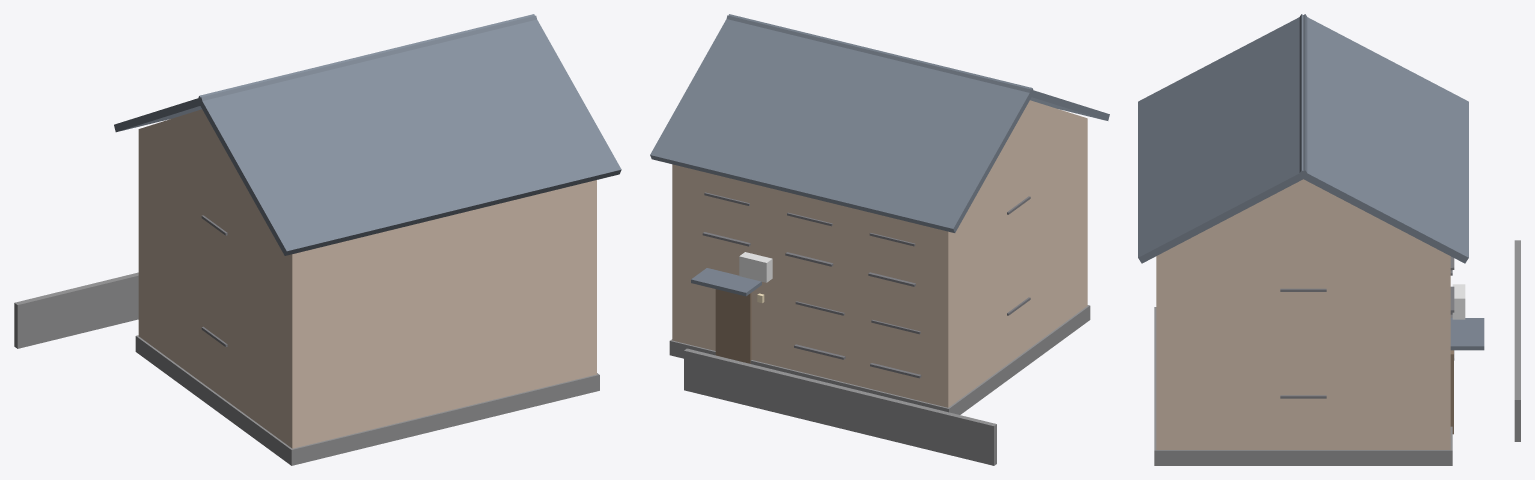
The model's file is House_A.fbx.
3 renders of one model, left to right at view 1: azimuth 30°, elevation 25°; view 2: azimuth 150°, elevation 25°; view 3: azimuth 270°, elevation 25°, orthographic. The views are drawn at different scales.
Visible parts, largest first — view 1: House_A_Mesh; view 2: House_A_Mesh; view 3: House_A_Mesh.
Boxes of the visible parts, x1=… form: House_A_Mesh: x1=14, y1=14, x2=621, y2=465; House_A_Mesh: x1=650, y1=14, x2=1109, y2=465; House_A_Mesh: x1=1138, y1=14, x2=1520, y2=465.
Size of the model in its own units: 10.7 by 9.11 by 7.93.
